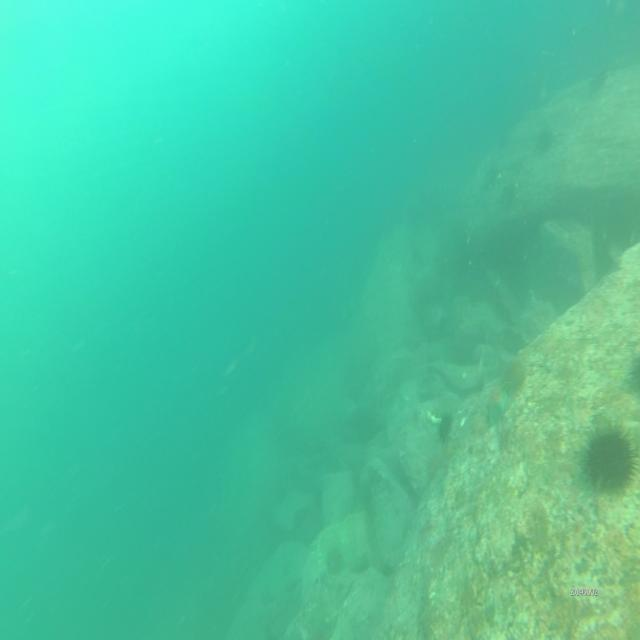echinus: (581, 426, 629, 493), (501, 360, 530, 390), (438, 408, 452, 442), (325, 545, 342, 572)
starfish: (483, 391, 511, 431)
